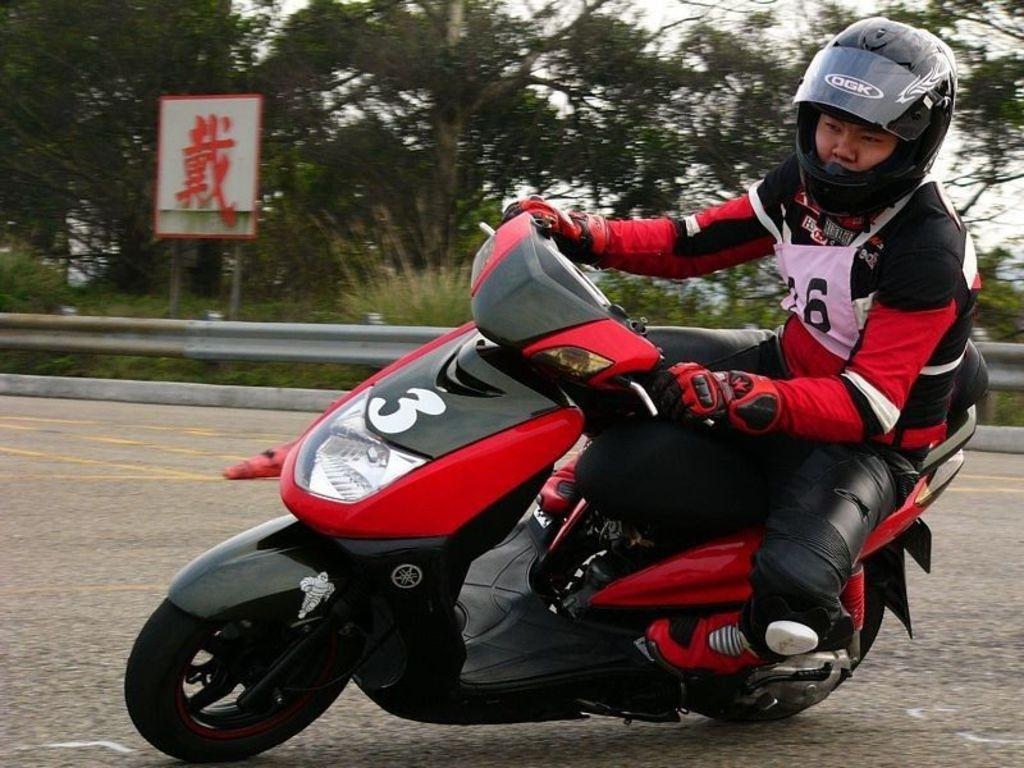helmet: (791, 15, 959, 218)
